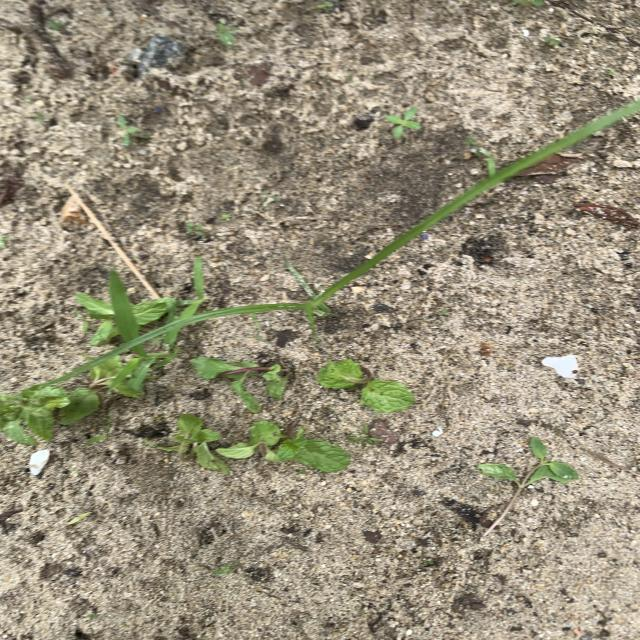crop: (478, 437, 579, 540), (216, 420, 350, 472), (190, 357, 292, 413), (316, 359, 415, 413), (157, 414, 230, 474), (59, 356, 122, 425), (0, 384, 71, 445), (75, 293, 119, 345), (132, 298, 170, 326)
weed: (156, 243, 399, 342), (174, 257, 209, 319), (385, 107, 421, 139), (115, 115, 150, 147), (347, 424, 384, 447), (133, 349, 177, 368), (213, 22, 239, 48), (86, 421, 112, 444), (185, 221, 209, 240), (212, 561, 239, 576), (219, 214, 231, 221)
